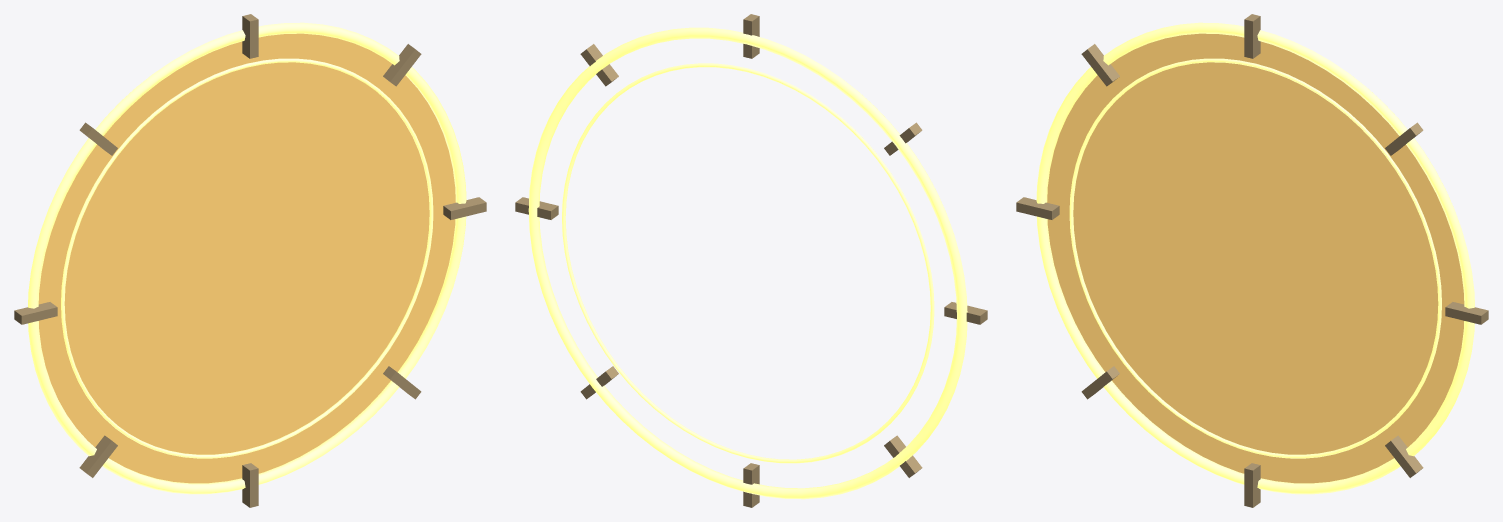
The model's file is flux-gate.glb.
The picture shows the model from 3 angles, left to right: view 1: azimuth 30°, elevation 25°; view 2: azimuth 150°, elevation 25°; view 3: azimuth 330°, elevation 25°; orthographic projection.
Visible parts, largest first — view 1: Flux checkpoint; view 2: Flux checkpoint; view 3: Flux checkpoint.
Part boxes in pixels (bbox=[...]): Flux checkpoint: bbox=[14, 14, 486, 507]; Flux checkpoint: bbox=[515, 14, 987, 507]; Flux checkpoint: bbox=[1016, 14, 1488, 507].
Size of the model in its own units: 6.5 by 6.5 by 0.24.
